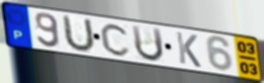6: (204, 35, 237, 74)
9: (34, 12, 61, 50)
C: (99, 22, 133, 58)
K: (175, 30, 204, 69)
U: (130, 24, 166, 63), (62, 14, 97, 54)
